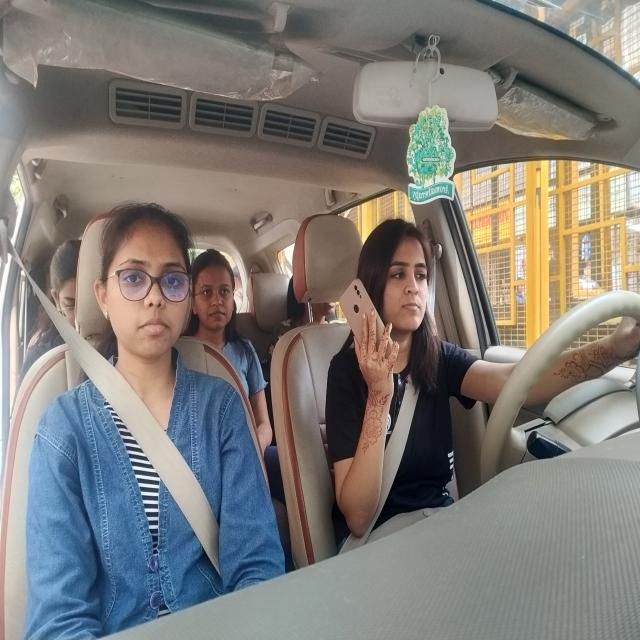mobile: (342, 260, 397, 372)
person: (334, 198, 447, 382), (96, 198, 199, 379), (191, 224, 240, 349), (31, 227, 82, 345)
